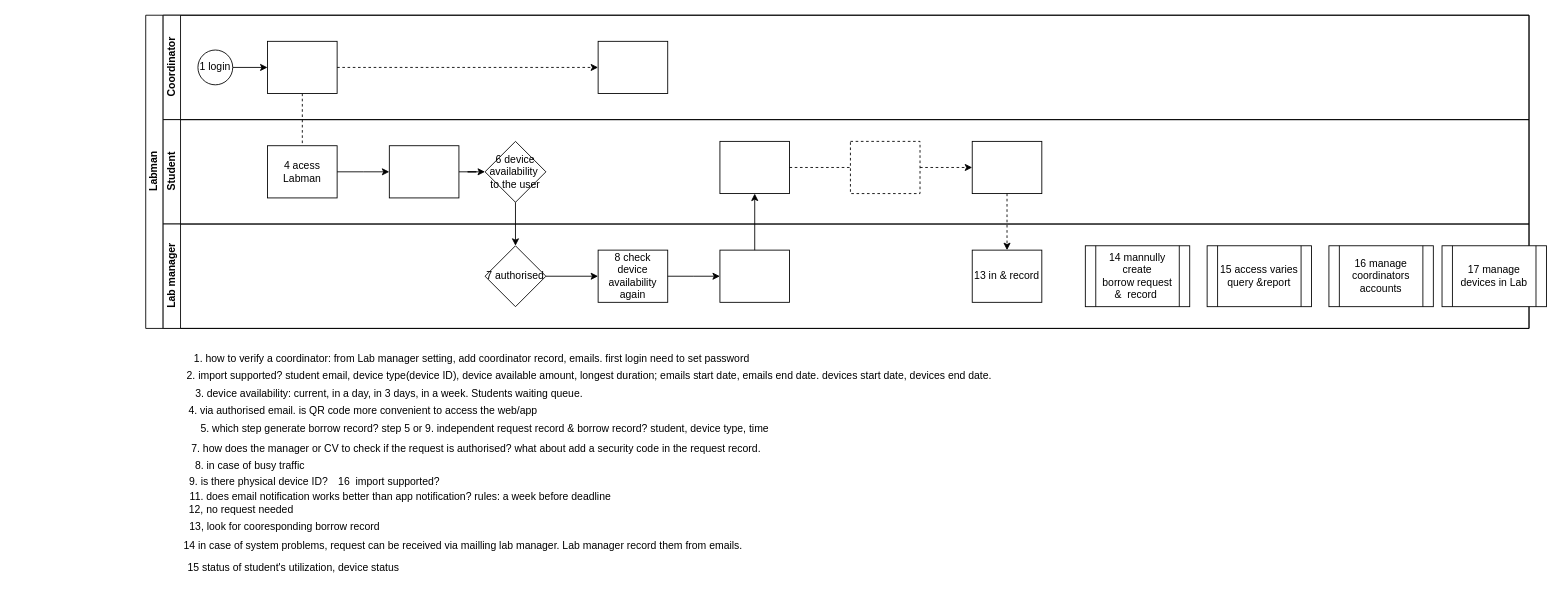
Image size: 1562x596. Some labels were removed from this diagram. Here are the shapes that lost their labels. From the top down, the centre of each, then its label:
At point (302, 67): "2 students and devices authorisation".
At point (632, 67): "3 access report".
At point (423, 171): "5 borrow/ request".
At point (754, 167): "10 get devices".
At point (885, 167): "11 receive notification".
At point (1006, 167): "12 return".
At point (754, 275): "9 out & record".
